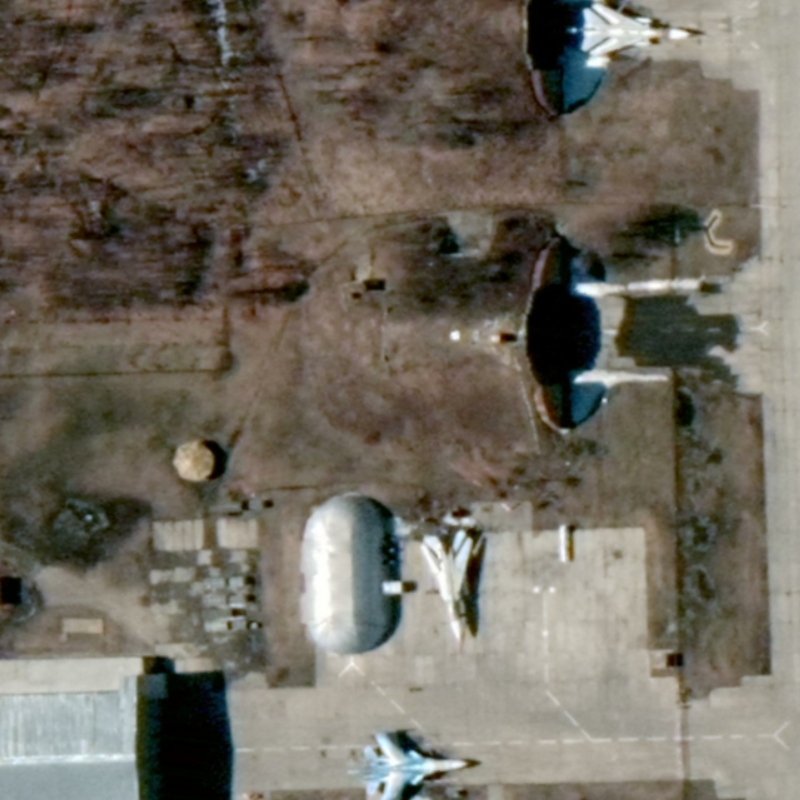A19: (346, 729, 472, 800)
A20: (416, 527, 476, 643), (578, 1, 694, 61)
